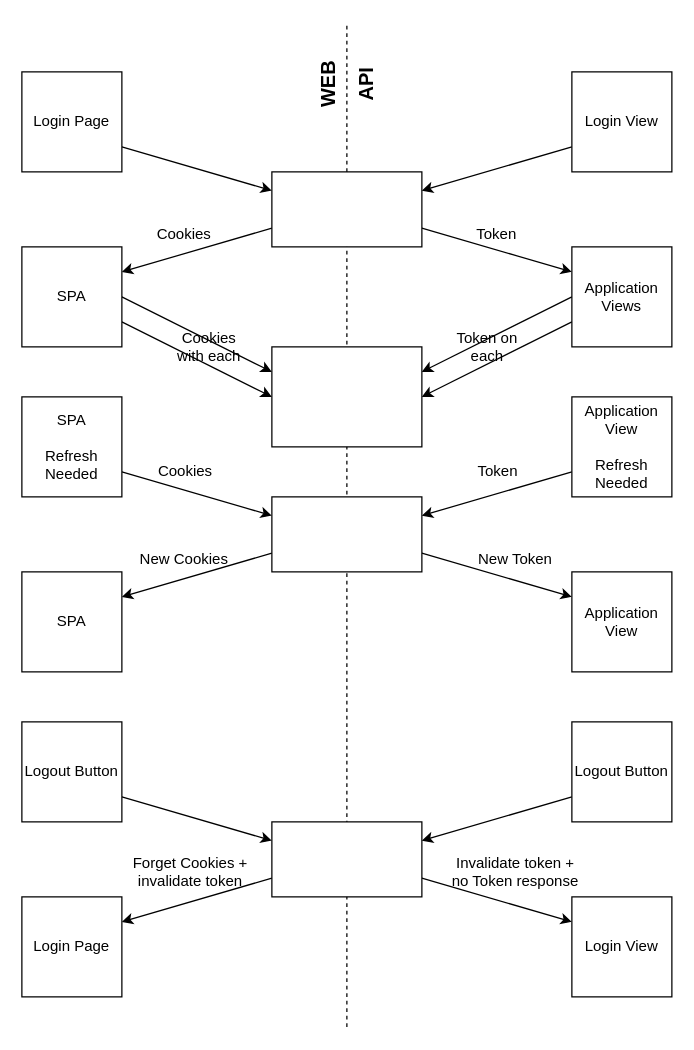
This 694x1050 diagram has some shape labels left out. The box of each missing label's shape, as (x1, y1, x2, y2) in pixels:
Invalidate token create new token: (271, 496, 422, 572)
Logout: (271, 821, 422, 897)
Process & respond: (271, 346, 422, 447)
Validate create token: (271, 171, 422, 247)
